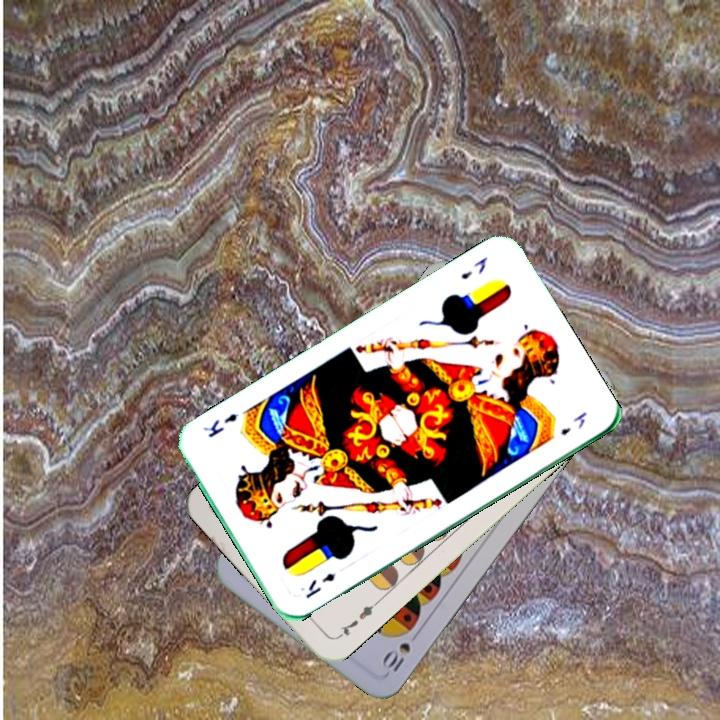E7: (333, 597, 381, 642)
EK: (301, 568, 339, 601), (456, 253, 490, 282)
S10: (378, 638, 414, 675)
